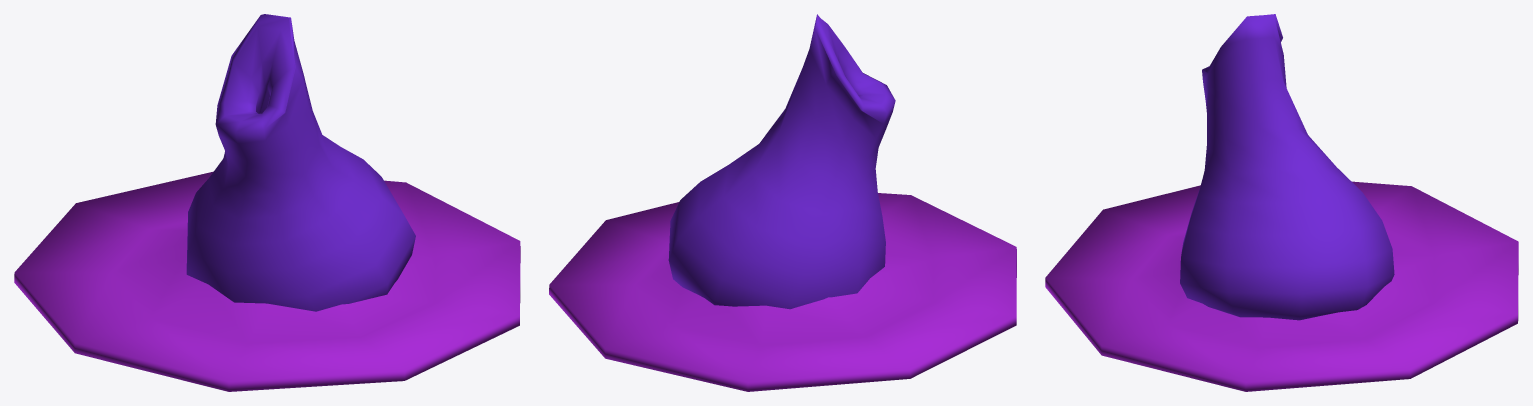
Rendered from FruitPlant1.fbx.
The picture shows the model from 3 angles, left to right: view 1: azimuth 30°, elevation 25°; view 2: azimuth 150°, elevation 25°; view 3: azimuth 270°, elevation 25°; orthographic projection. The views are drawn at different scales.
Parts seen in each view (by area): view 1: FruitPlant 3; view 2: FruitPlant 3; view 3: FruitPlant 3.
Part boxes in pixels (<box>): FruitPlant 3: <box>14,14,520,391</box>; FruitPlant 3: <box>549,14,1016,391</box>; FruitPlant 3: <box>1045,14,1518,391</box>.
Bounding box in the file's own units: 50.11 × 40.76 × 49.31.
